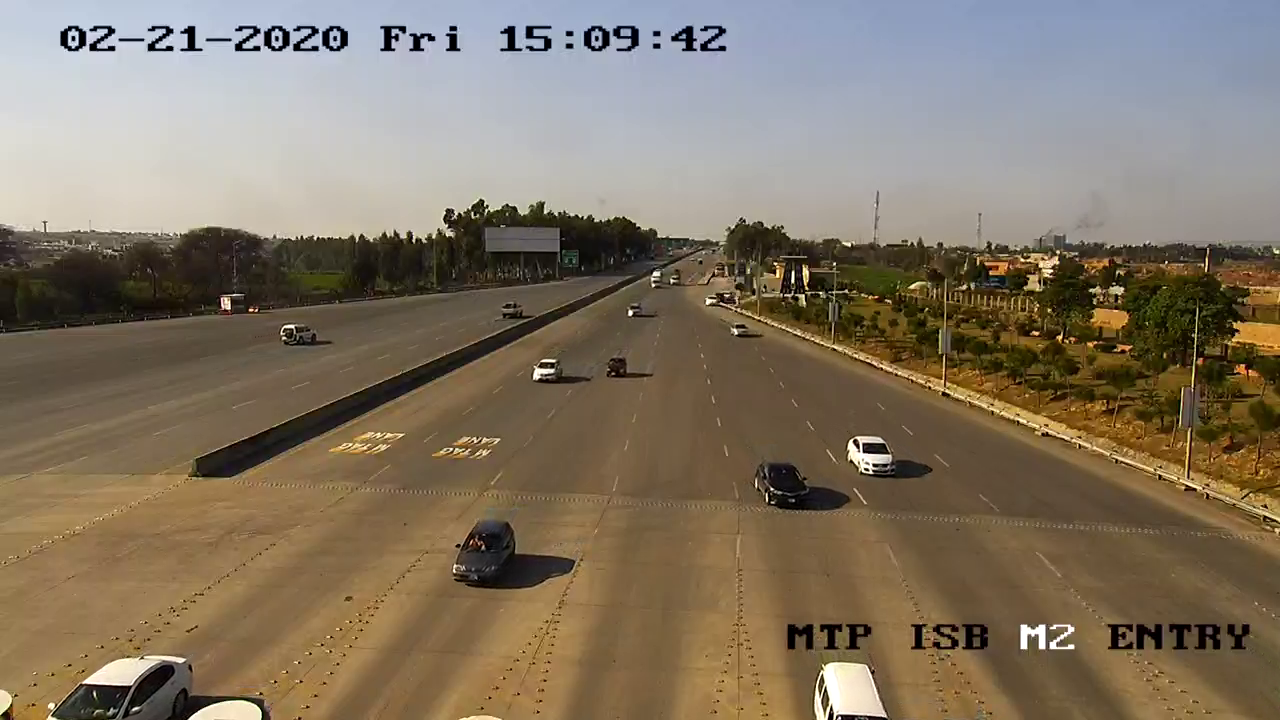f1: (437, 513, 528, 593), (749, 453, 813, 519), (842, 428, 901, 486)
